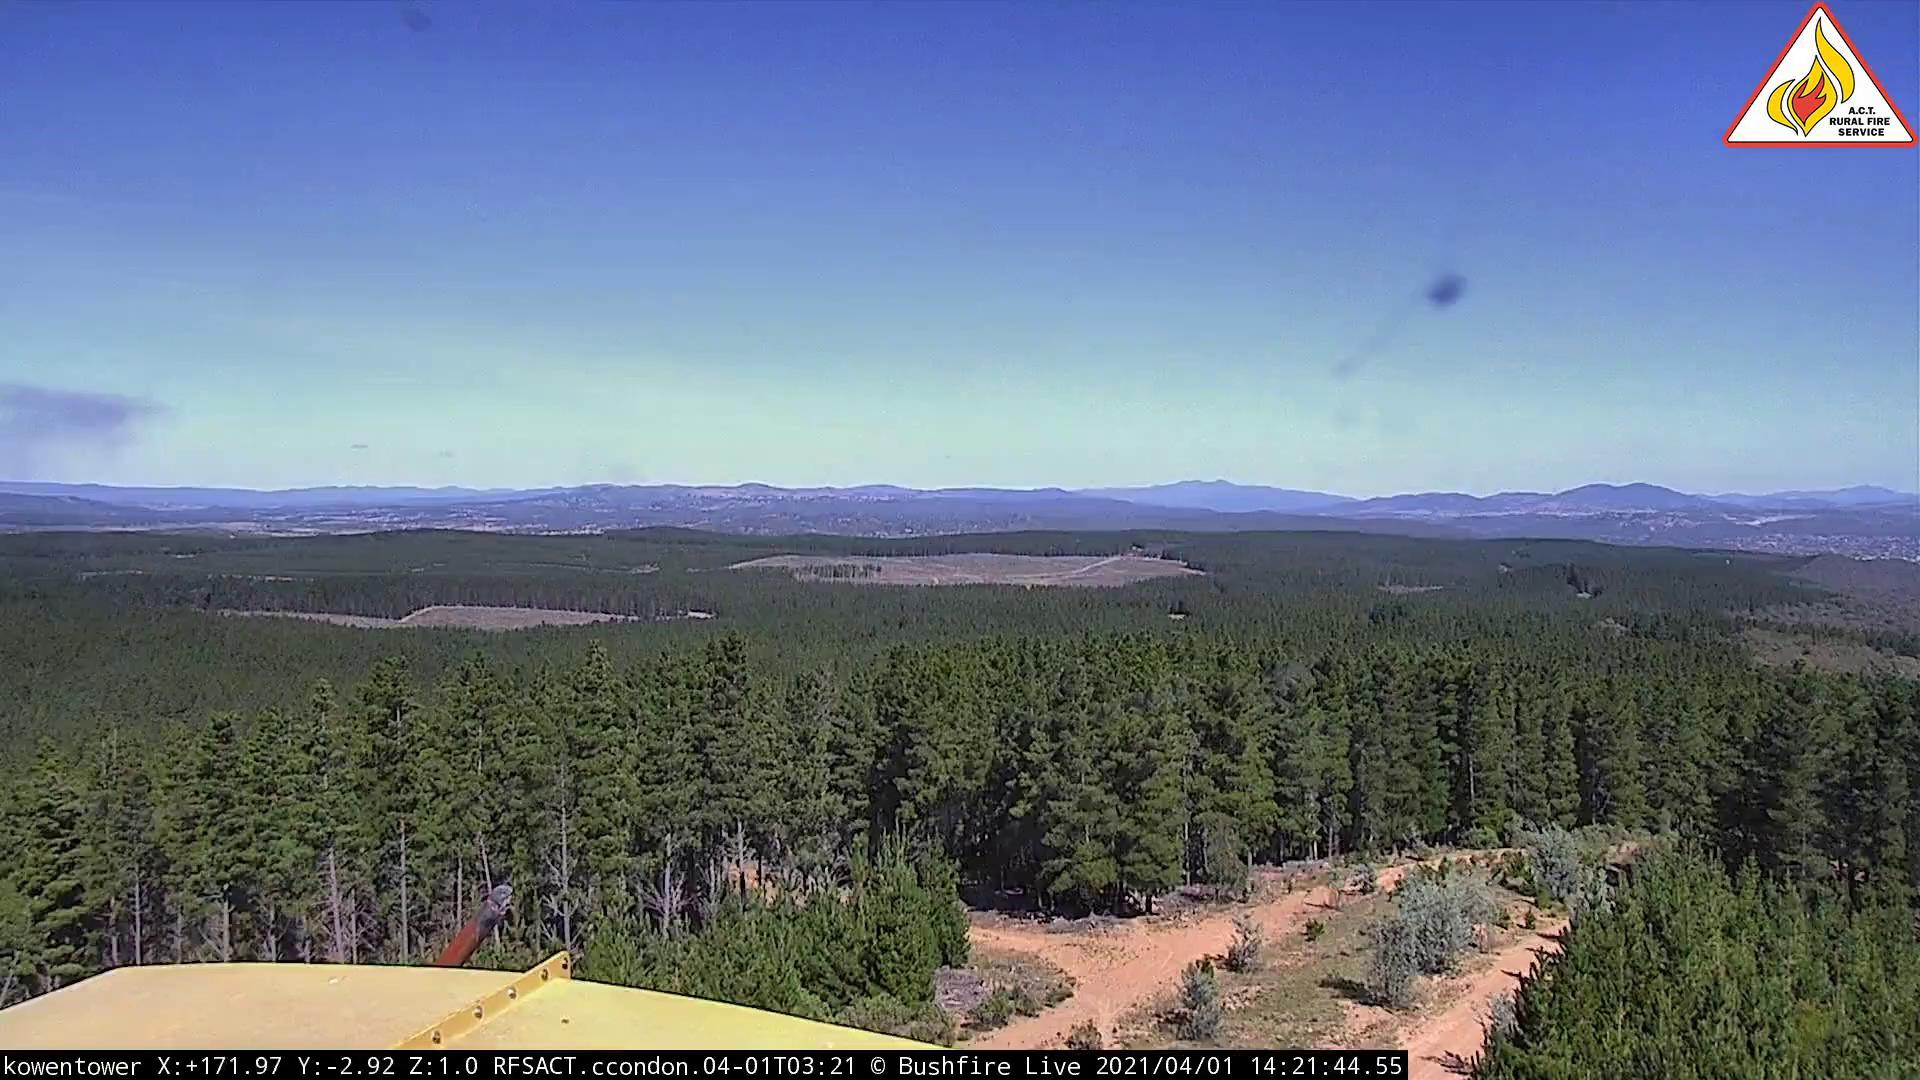Smoke: (3, 388, 202, 545)
